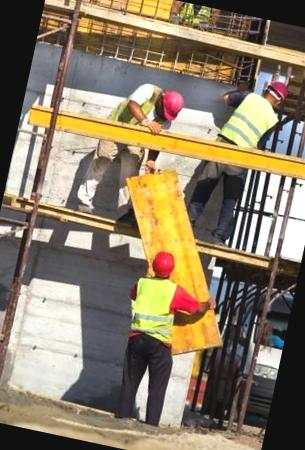helmet: (146, 244, 180, 280)
person: (104, 243, 191, 427)
